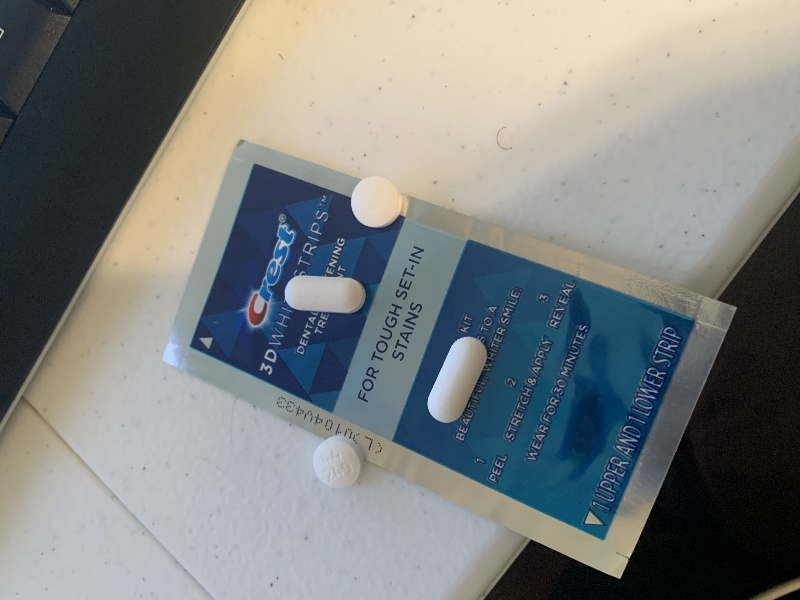Aspirin: (308, 433, 370, 491), (347, 173, 408, 229)
Tylenol: (423, 330, 488, 428), (282, 272, 370, 317)
